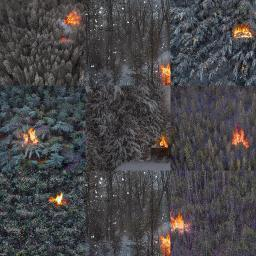Small fire: (154, 207, 189, 256), (52, 1, 83, 31), (15, 126, 49, 152), (50, 188, 70, 212), (232, 23, 256, 43), (158, 61, 177, 83), (229, 128, 247, 147), (157, 129, 171, 150)
